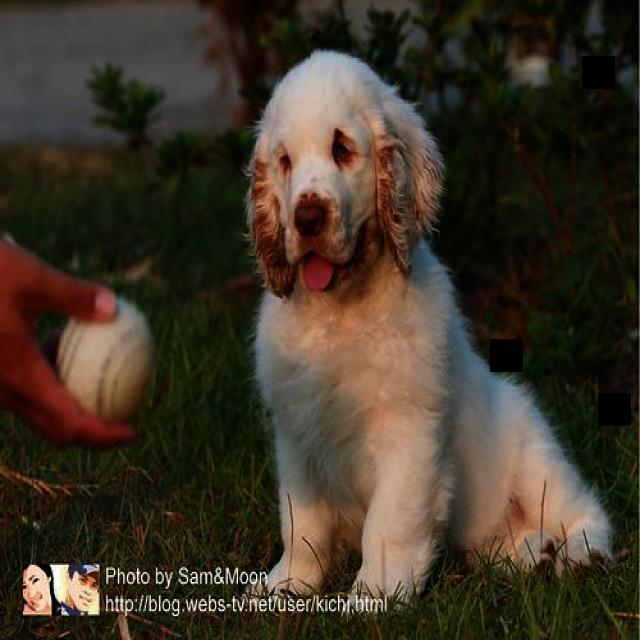puppy-dog: (232, 52, 633, 605)
